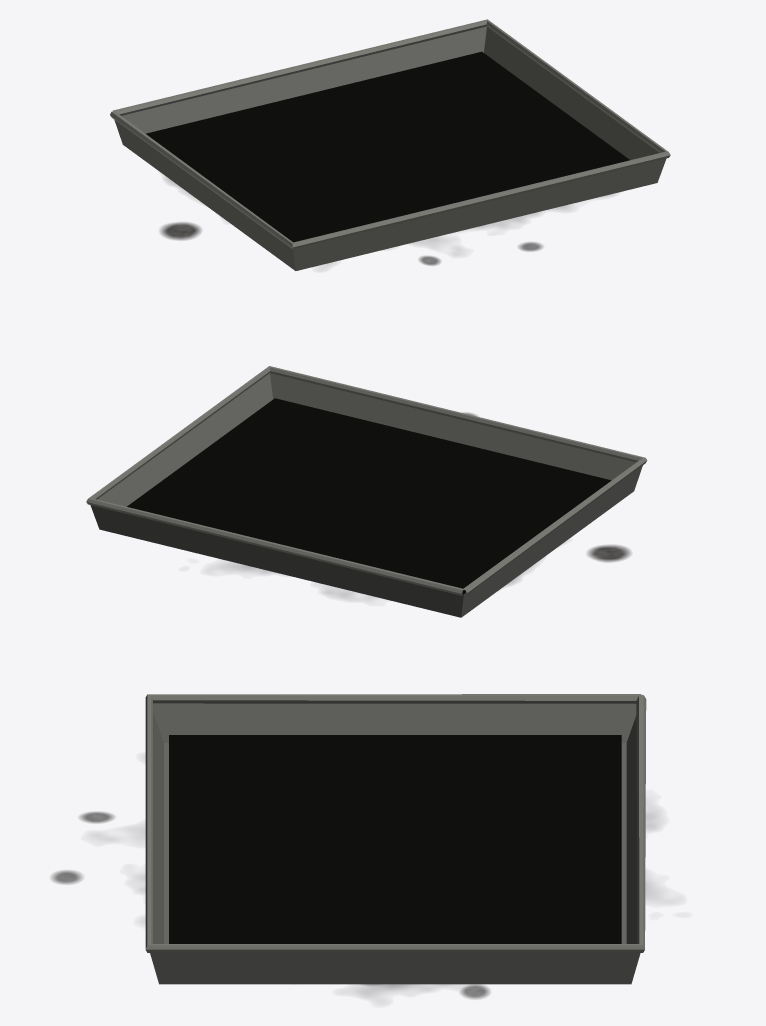
The model's file is drip-pan.glb.
The picture shows the model from 3 angles, top to bottom: view 1: azimuth 30°, elevation 25°; view 2: azimuth 150°, elevation 25°; view 3: azimuth 270°, elevation 25°; orthographic projection. The views are drawn at different scales.
Parts seen in each view (by area): view 1: drippan; view 2: drippan; view 3: drippan.
Part boxes in pixels (box(x1,y1,x2,y2)): drippan: box(110, 19, 670, 270); drippan: box(86, 366, 647, 617); drippan: box(51, 694, 656, 998).
Bounding box in the file's own units: 0.6 × 0.0395 × 0.6.
Materials: 2 (1 with a texture image).
